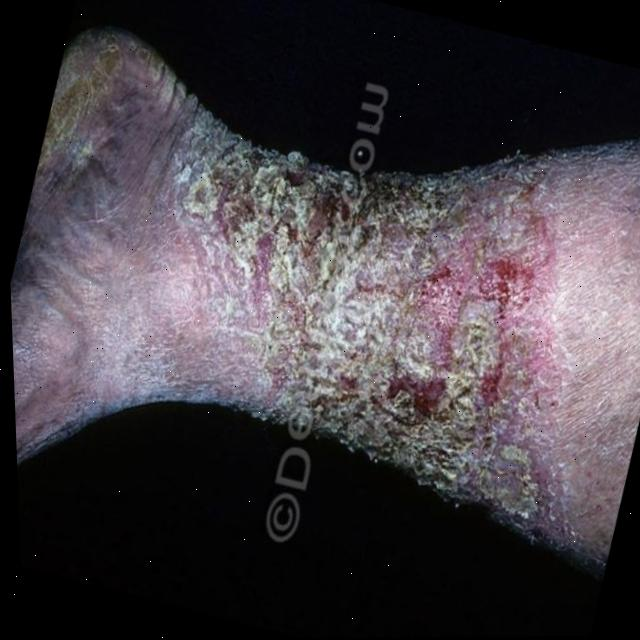Eczema: (187, 97, 589, 497), (32, 38, 139, 180), (14, 386, 44, 466)
